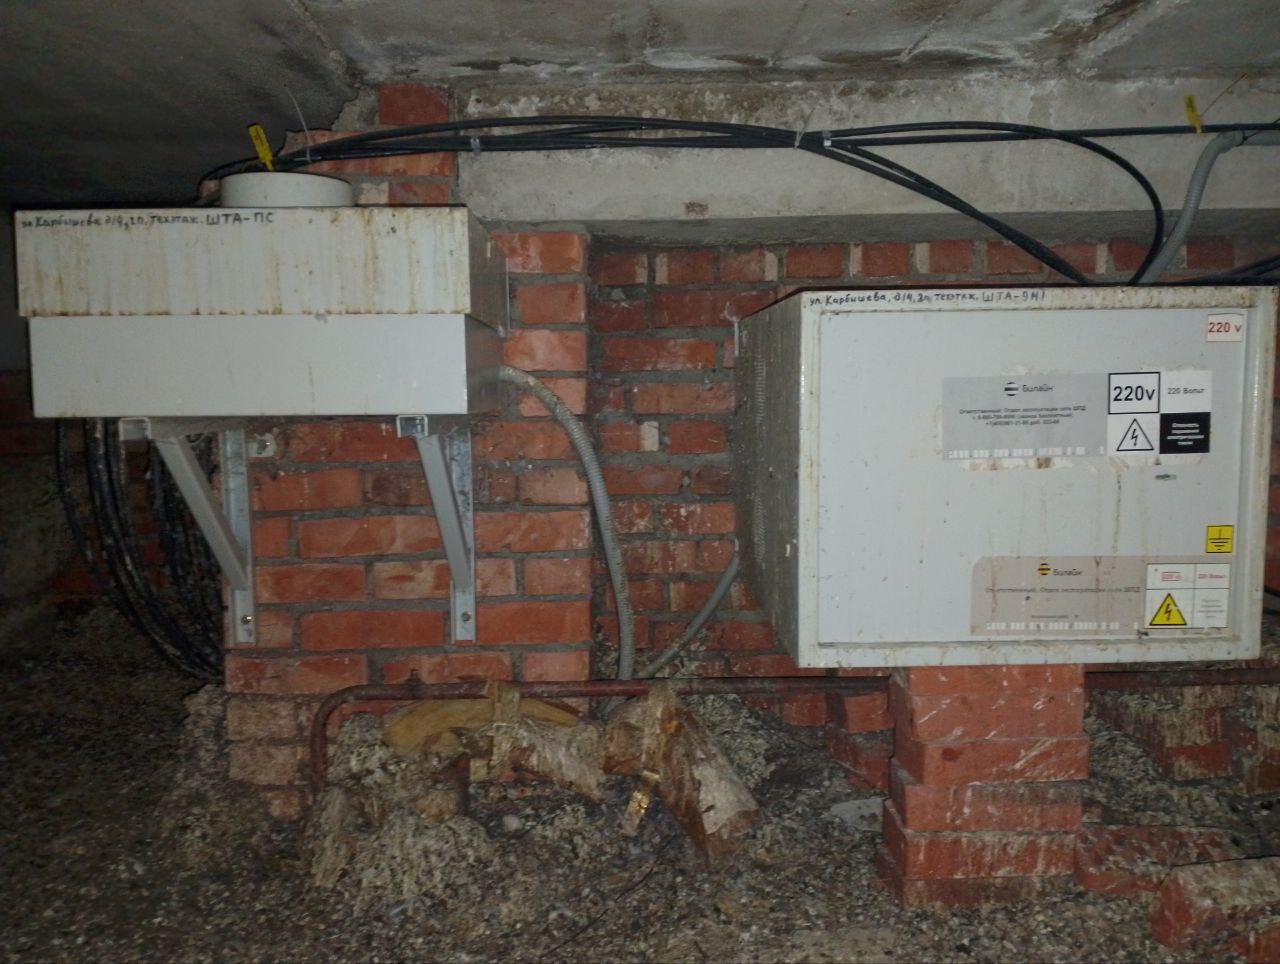shta-9m: (727, 285, 1277, 671)
shta-ps: (5, 170, 518, 421)
